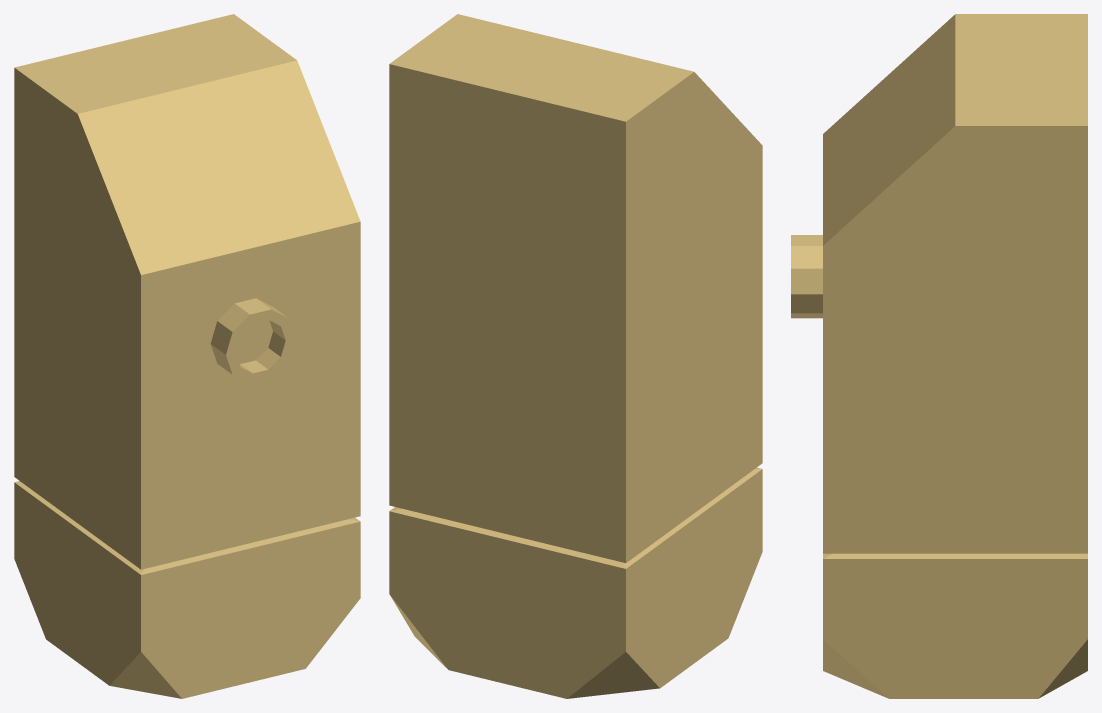
File: Disparador.fbx
The picture shows the model from 3 angles, left to right: view 1: azimuth 30°, elevation 25°; view 2: azimuth 150°, elevation 25°; view 3: azimuth 270°, elevation 25°; orthographic projection. The views are drawn at different scales.
Parts seen in each view (by area): view 1: Disparador; view 2: Disparador; view 3: Disparador.
Part boxes in pixels (left/top/right/bottom): Disparador: left=14, top=14, right=360, bottom=698; Disparador: left=389, top=14, right=762, bottom=698; Disparador: left=791, top=14, right=1087, bottom=698.
Size of the model in its own units: 1.5 by 3.59 by 1.69.
